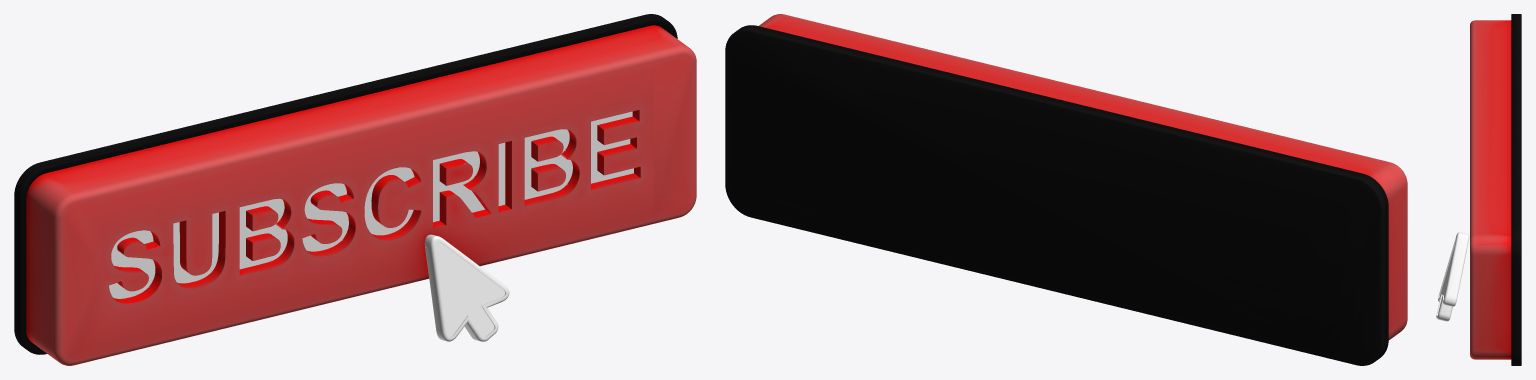
The model's file is Subscribe Button.fbx.
3 views of the same model, side by side, from view 1: azimuth 30°, elevation 25°; view 2: azimuth 150°, elevation 25°; view 3: azimuth 270°, elevation 25° (orthographic). The views are drawn at different scales.
Parts seen in each view (by area): view 1: SUBSCRIBE; view 2: SUBSCRIBE; view 3: SUBSCRIBE.
Boxes of the visible parts, x1=… form: SUBSCRIBE: x1=14, y1=14, x2=696, y2=365; SUBSCRIBE: x1=725, y1=14, x2=1407, y2=365; SUBSCRIBE: x1=1436, y1=14, x2=1521, y2=365.
Size of the model in its own units: 673 by 229 by 105.
Materials: 1 (1 with a texture image).
